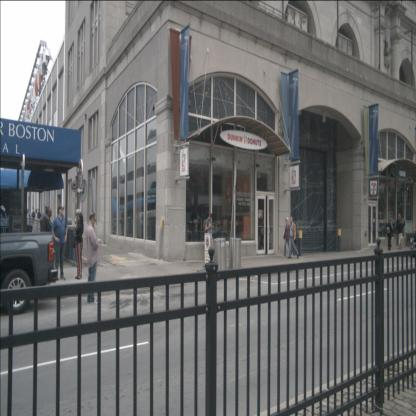human-pedestrian-adult: (85, 212, 102, 305), (51, 205, 67, 281), (40, 206, 52, 284), (73, 212, 84, 280), (288, 216, 299, 259), (205, 213, 214, 263), (283, 217, 293, 257), (394, 218, 406, 250), (386, 218, 394, 250), (396, 214, 402, 247), (30, 206, 36, 230), (34, 208, 38, 230), (38, 209, 42, 230)
vehicle-truck: (0, 231, 58, 315)
